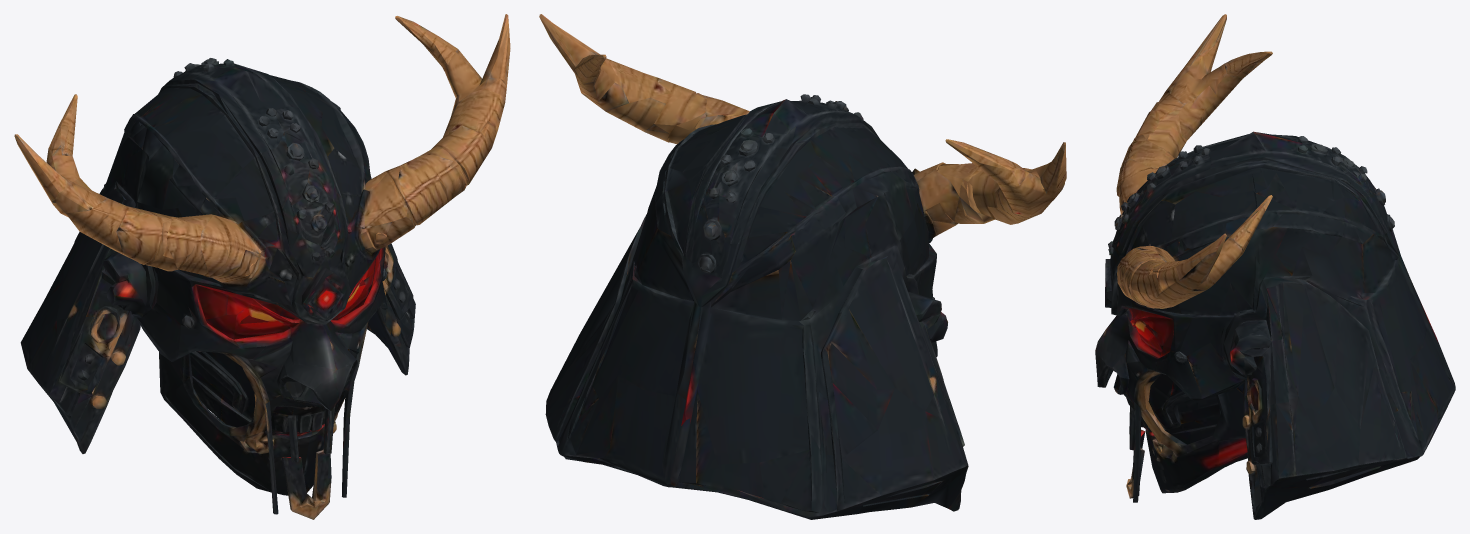
Rendered from mx_gr_helm_oni.glb.
The picture shows the model from 3 angles, left to right: view 1: azimuth 30°, elevation 25°; view 2: azimuth 150°, elevation 25°; view 3: azimuth 270°, elevation 25°; orthographic projection. The views are drawn at different scales.
Size of the model in its own units: 1.9 by 1.5 by 1.31.
1 material, 1 textured.
